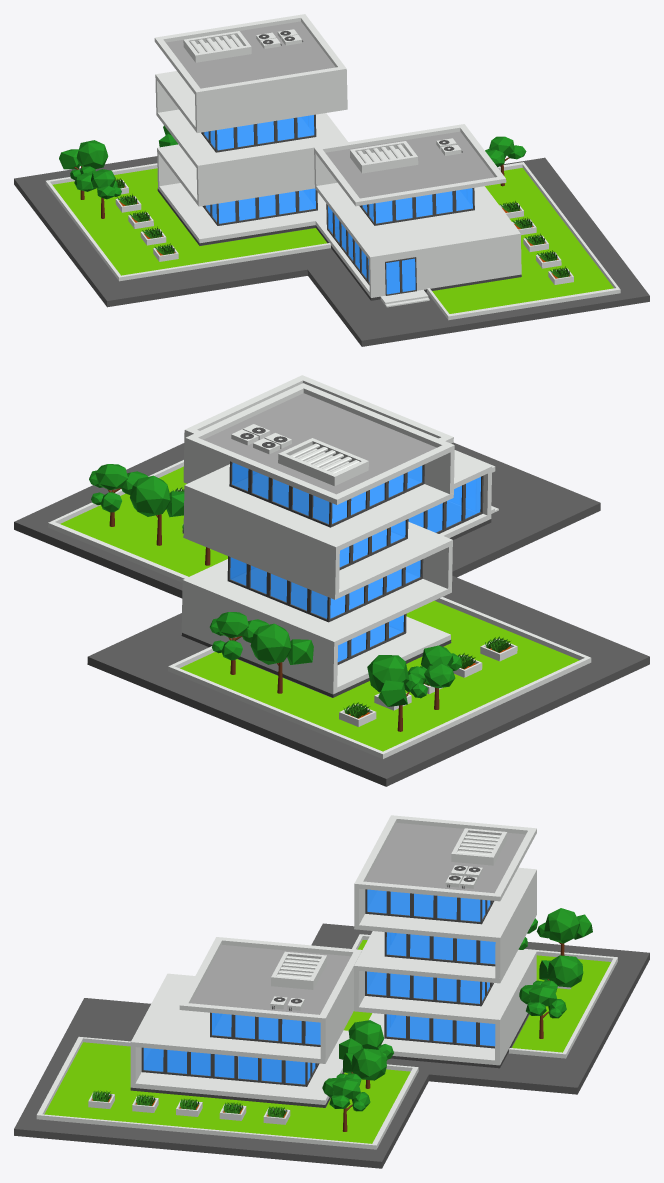
The model's file is edificio.glb.
3 renders of one model, top to bottom at view 1: azimuth 30°, elevation 25°; view 2: azimuth 150°, elevation 25°; view 3: azimuth 270°, elevation 25°, orthographic. The views are drawn at different scales.
Visible parts, largest first — view 1: CASA.003, BASE CASA.001, CASA.005, CASA.004, Perimetro giardino.003, Perimetro giardino.002, Uscita aria.003, Uscita aria.004, Cube.004, Cube.005, erba.002, Icosphere.058 (+4 smaller); view 2: BASE CASA.001, CASA.005, CASA.004, Perimetro giardino.003, Perimetro giardino.002, CASA.003, Uscita aria.004, Cube.005, Icosphere.036, Icosphere.049, Icosphere.058, Uscita aria 02.004 (+8 smaller); view 3: CASA.003, CASA.005, BASE CASA.001, Perimetro giardino.002, CASA.004, Perimetro giardino.003, Cube.004, Uscita aria.003, Uscita aria.004, Icosphere.058, Icosphere.036, erba.002 (+6 smaller).
Part boxes in pixels (x1=…): CASA.003: x1=314, y1=124, x2=521, y2=297; BASE CASA.001: x1=14, y1=156, x2=649, y2=346; CASA.005: x1=154, y1=14, x2=347, y2=206; CASA.004: x1=155, y1=74, x2=347, y2=243; Perimetro giardino.003: x1=45, y1=163, x2=330, y2=281; Perimetro giardino.002: x1=427, y1=162, x2=620, y2=320; Uscita aria.003: x1=350, y1=141, x2=418, y2=173; Uscita aria.004: x1=183, y1=31, x2=251, y2=62; Cube.004: x1=499, y1=202, x2=573, y2=284; Cube.005: x1=115, y1=179, x2=178, y2=261; erba.002: x1=500, y1=201, x2=569, y2=277; Icosphere.058: x1=76, y1=140, x2=108, y2=168; BASE CASA.001: x1=14, y1=442, x2=649, y2=786; CASA.005: x1=183, y1=383, x2=454, y2=641; CASA.004: x1=181, y1=485, x2=453, y2=694; Perimetro giardino.003: x1=168, y1=597, x2=591, y2=758; Perimetro giardino.002: x1=48, y1=450, x2=495, y2=582; CASA.003: x1=182, y1=375, x2=492, y2=538; Uscita aria.004: x1=278, y1=438, x2=368, y2=486; Cube.005: x1=339, y1=639, x2=517, y2=726; Icosphere.036: x1=130, y1=475, x2=170, y2=516; Icosphere.049: x1=250, y1=623, x2=291, y2=664; Icosphere.058: x1=367, y1=655, x2=409, y2=691; Uscita aria 02.004: x1=290, y1=443, x2=359, y2=473; CASA.003: x1=130, y1=937, x2=362, y2=1104; CASA.005: x1=354, y1=815, x2=536, y2=1024; BASE CASA.001: x1=14, y1=923, x2=649, y2=1168; Perimetro giardino.002: x1=36, y1=1036, x2=418, y2=1149; CASA.004: x1=354, y1=870, x2=536, y2=1065; Perimetro giardino.003: x1=344, y1=934, x2=617, y2=1058; Cube.004: x1=88, y1=1092, x2=290, y2=1124; Uscita aria.003: x1=271, y1=951, x2=326, y2=989; Uscita aria.004: x1=451, y1=828, x2=507, y2=865; Icosphere.058: x1=544, y1=908, x2=579, y2=943; Icosphere.036: x1=351, y1=1048, x2=386, y2=1080; erba.002: x1=92, y1=1090, x2=286, y2=1117.
Size of the model in its own units: 2376 by 822 by 2554.
2 materials, 2 textured.
